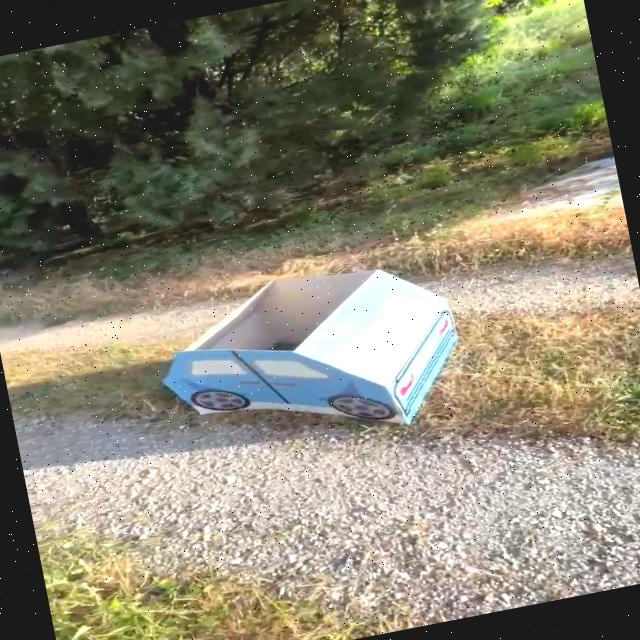blue_car: (122, 226, 530, 494)
